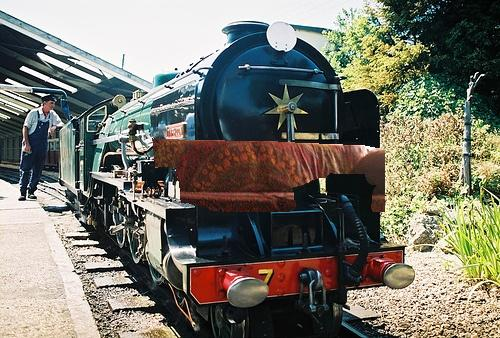tampered: (153, 139, 385, 212)
